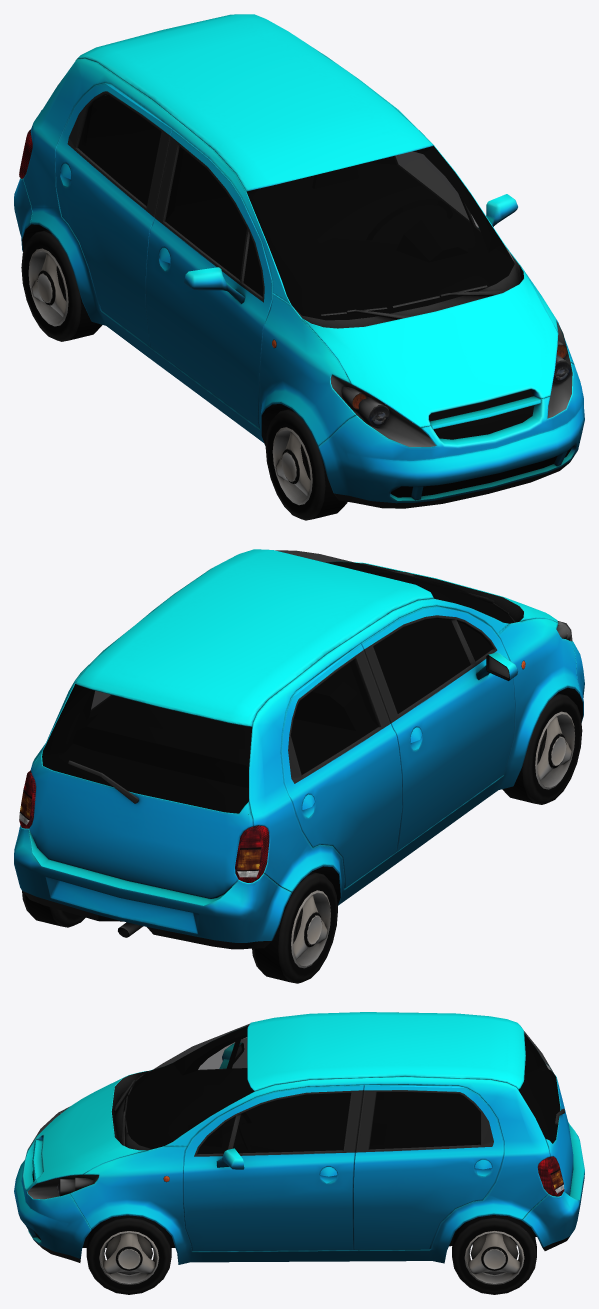
Rendered from car_compact.glb.
3 renders of one model, top to bottom at view 1: azimuth 30°, elevation 25°; view 2: azimuth 150°, elevation 25°; view 3: azimuth 270°, elevation 25°, orthographic. The views are drawn at different scales.
Visible parts, largest first — view 1: Compact_Body, Wheel_C003, Wheel_C002; view 2: Compact_Body, Wheel_C002, Wheel_C003, Wheel_C001; view 3: Compact_Body, Wheel_C001, Wheel_C.
Part boxes in pixels (box(x1,y1,x2,y2)): Compact_Body: box(14, 14, 584, 508); Wheel_C003: box(265, 408, 347, 520); Wheel_C002: box(21, 229, 102, 341); Compact_Body: box(14, 549, 584, 949); Wheel_C002: box(252, 871, 337, 983); Wheel_C003: box(502, 693, 582, 804); Wheel_C001: box(22, 891, 85, 927); Compact_Body: box(14, 1012, 584, 1264); Wheel_C001: box(452, 1215, 536, 1294); Wheel_C: box(86, 1215, 171, 1294).
Bounding box in the file's own units: 1.61 × 1.31 × 3.26.
4 materials, 3 textured.
